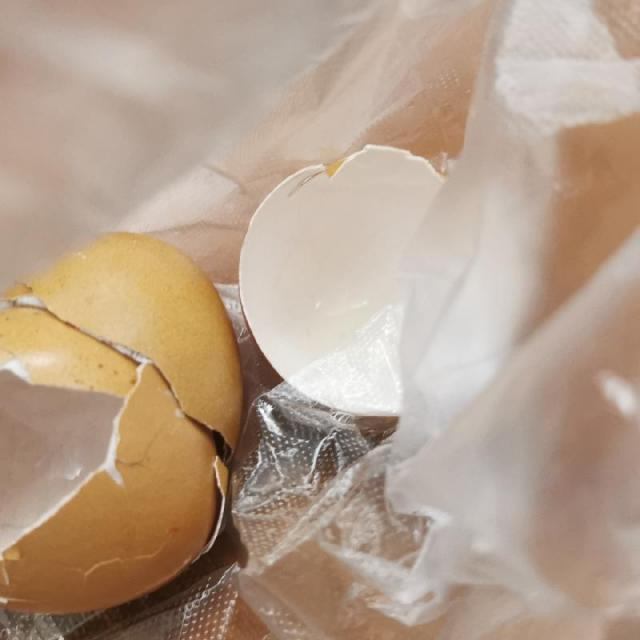egg shell: (0, 223, 248, 614), (239, 145, 445, 421)
